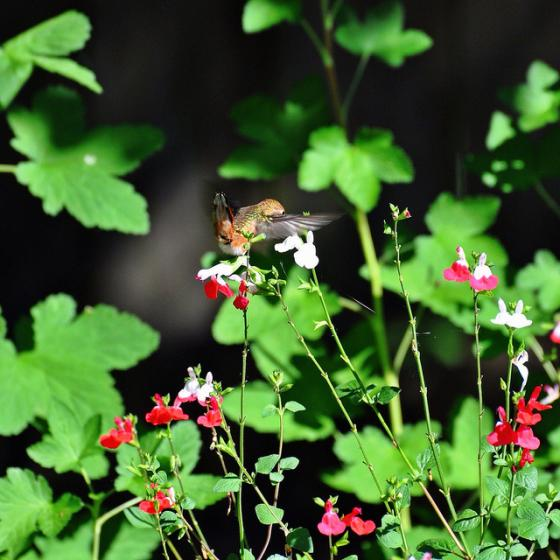bird: (234, 198, 348, 240), (212, 192, 249, 256)
